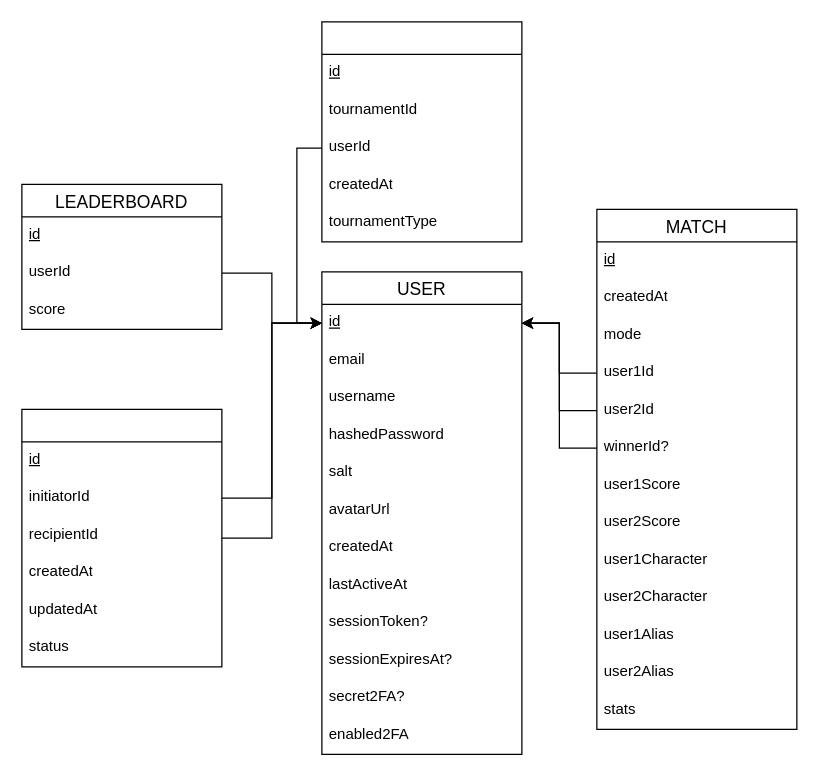
The diagram is 819 pixels wide and 780 high, and some of its shapes have lost their labels. The box of each missing label's shape, as (x1, y1, x2, y2) in pixels:
FRIENDSHIP: (21, 408, 222, 667)
TOURNAMENT_PARTICIPANT: (321, 21, 522, 242)
